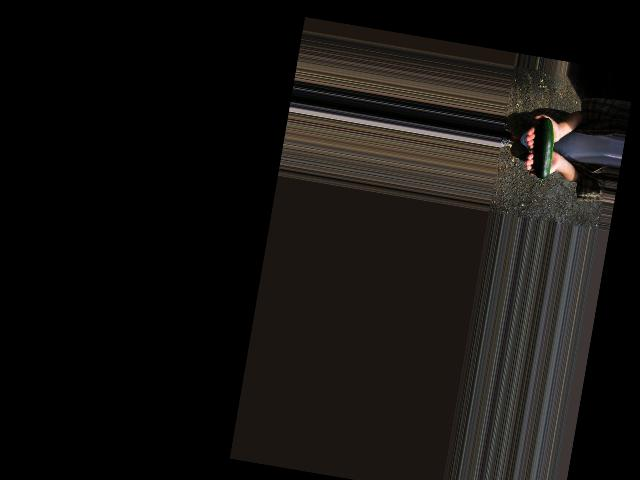cucumber: (527, 117, 558, 187)
